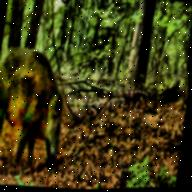boar: (0, 13, 86, 190)
